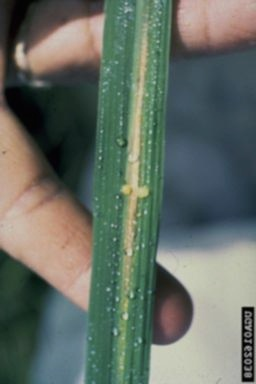Leaf_Blast: (111, 8, 155, 341)
